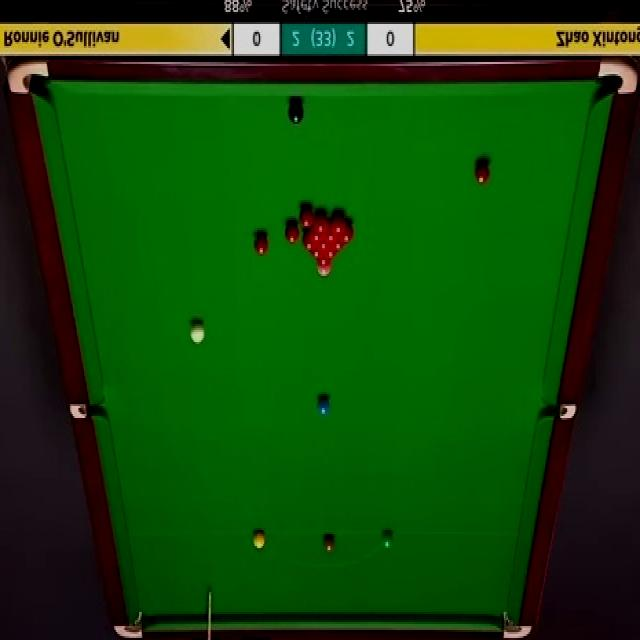black-ball: (288, 99, 304, 127)
blue-ball: (316, 393, 330, 418)
brown-ball: (323, 534, 335, 551)
green-ball: (382, 530, 393, 550)
pink-ball: (316, 264, 332, 280)
red-ball: (252, 232, 272, 258), (315, 212, 331, 236), (284, 220, 299, 245), (300, 205, 316, 228), (475, 160, 490, 184), (338, 224, 355, 244), (331, 213, 347, 234), (309, 228, 324, 243), (325, 225, 338, 242), (303, 233, 315, 249), (322, 248, 340, 258), (331, 240, 347, 251), (315, 258, 332, 268), (316, 240, 332, 250), (307, 249, 323, 258)
white-ball: (190, 318, 206, 344)
yellow-ball: (252, 530, 267, 551)
